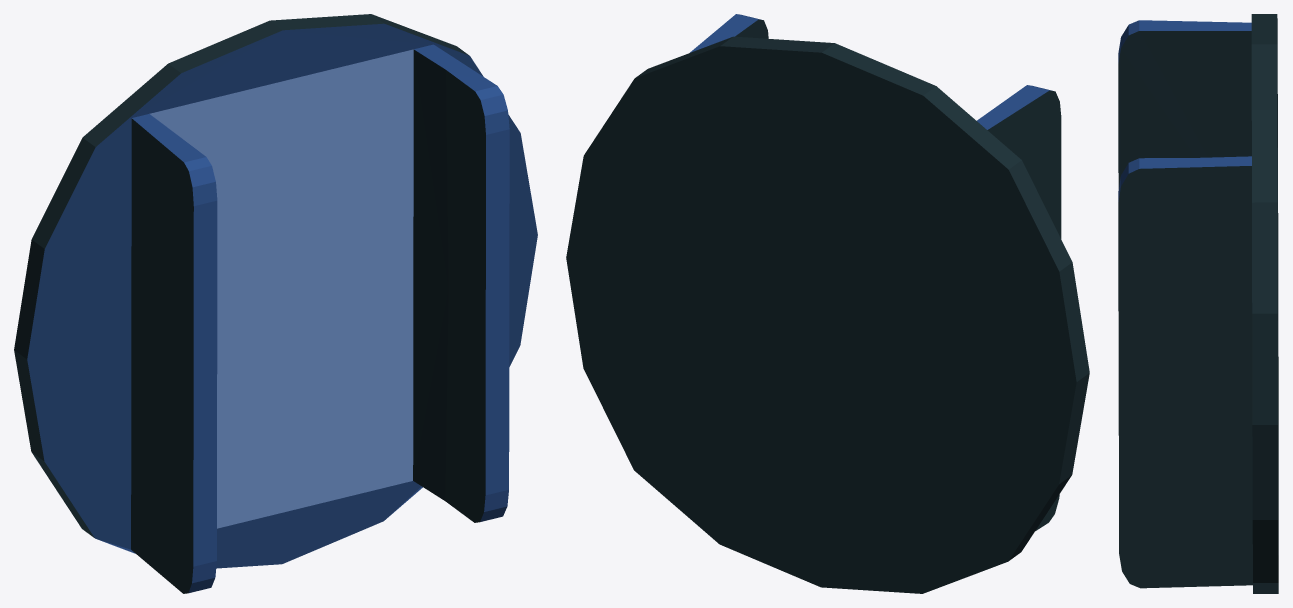
File: activeobstacle.glb
3 views of the same model, side by side, from view 1: azimuth 30°, elevation 25°; view 2: azimuth 150°, elevation 25°; view 3: azimuth 270°, elevation 25° (orthographic). The views are drawn at different scales.
Parts seen in each view (by area): view 1: Board.001; view 2: Board.001; view 3: Board.001.
Part boxes in pixels (<box>): Board.001: <box>14,14,537,593</box>; Board.001: <box>566,14,1089,593</box>; Board.001: <box>1118,14,1278,593</box>.
Size of the model in its own units: 1.96 by 1.96 by 0.5483.
1 material, 1 textured.
